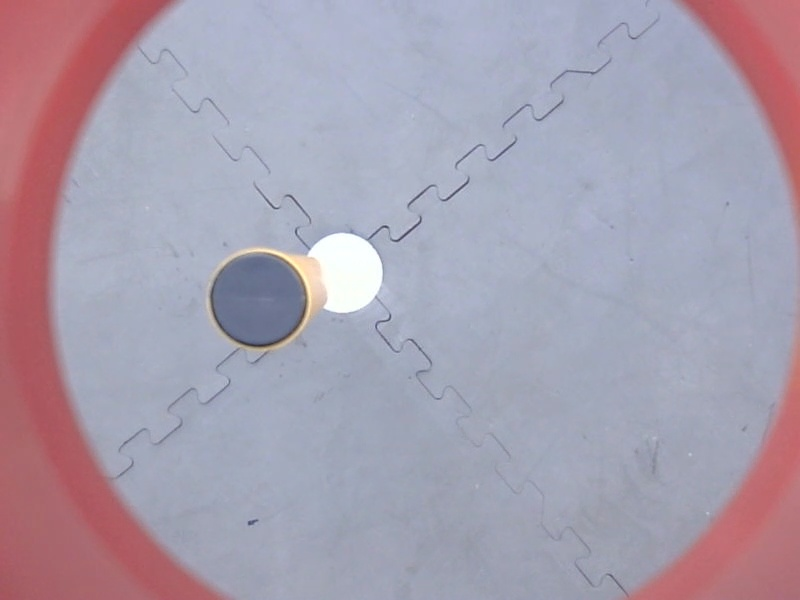tip: (204, 245, 315, 355)
